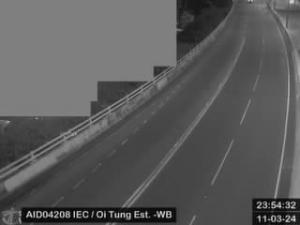vehicle: (246, 0, 254, 2)
